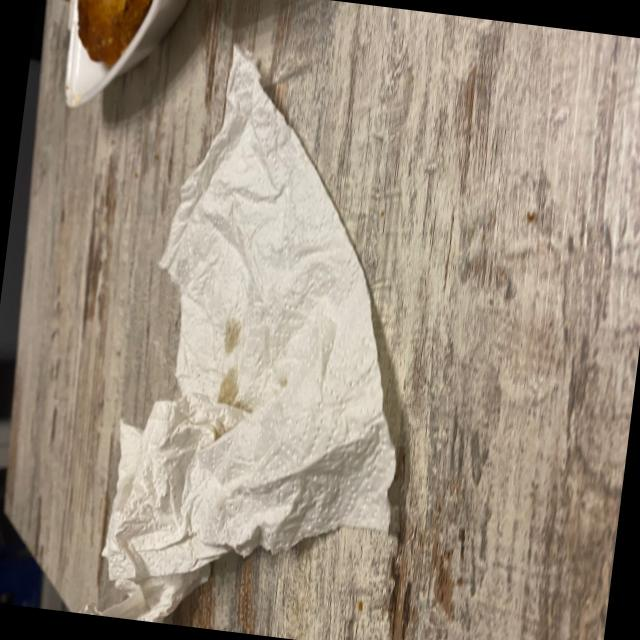organic waste: (78, 36, 447, 640)
